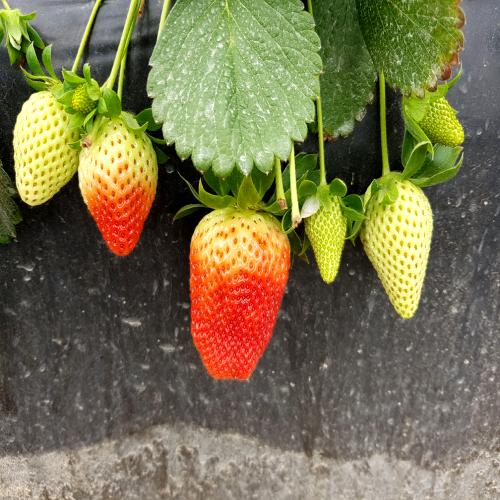partially-ripe: (186, 198, 293, 402), (78, 101, 164, 273)
